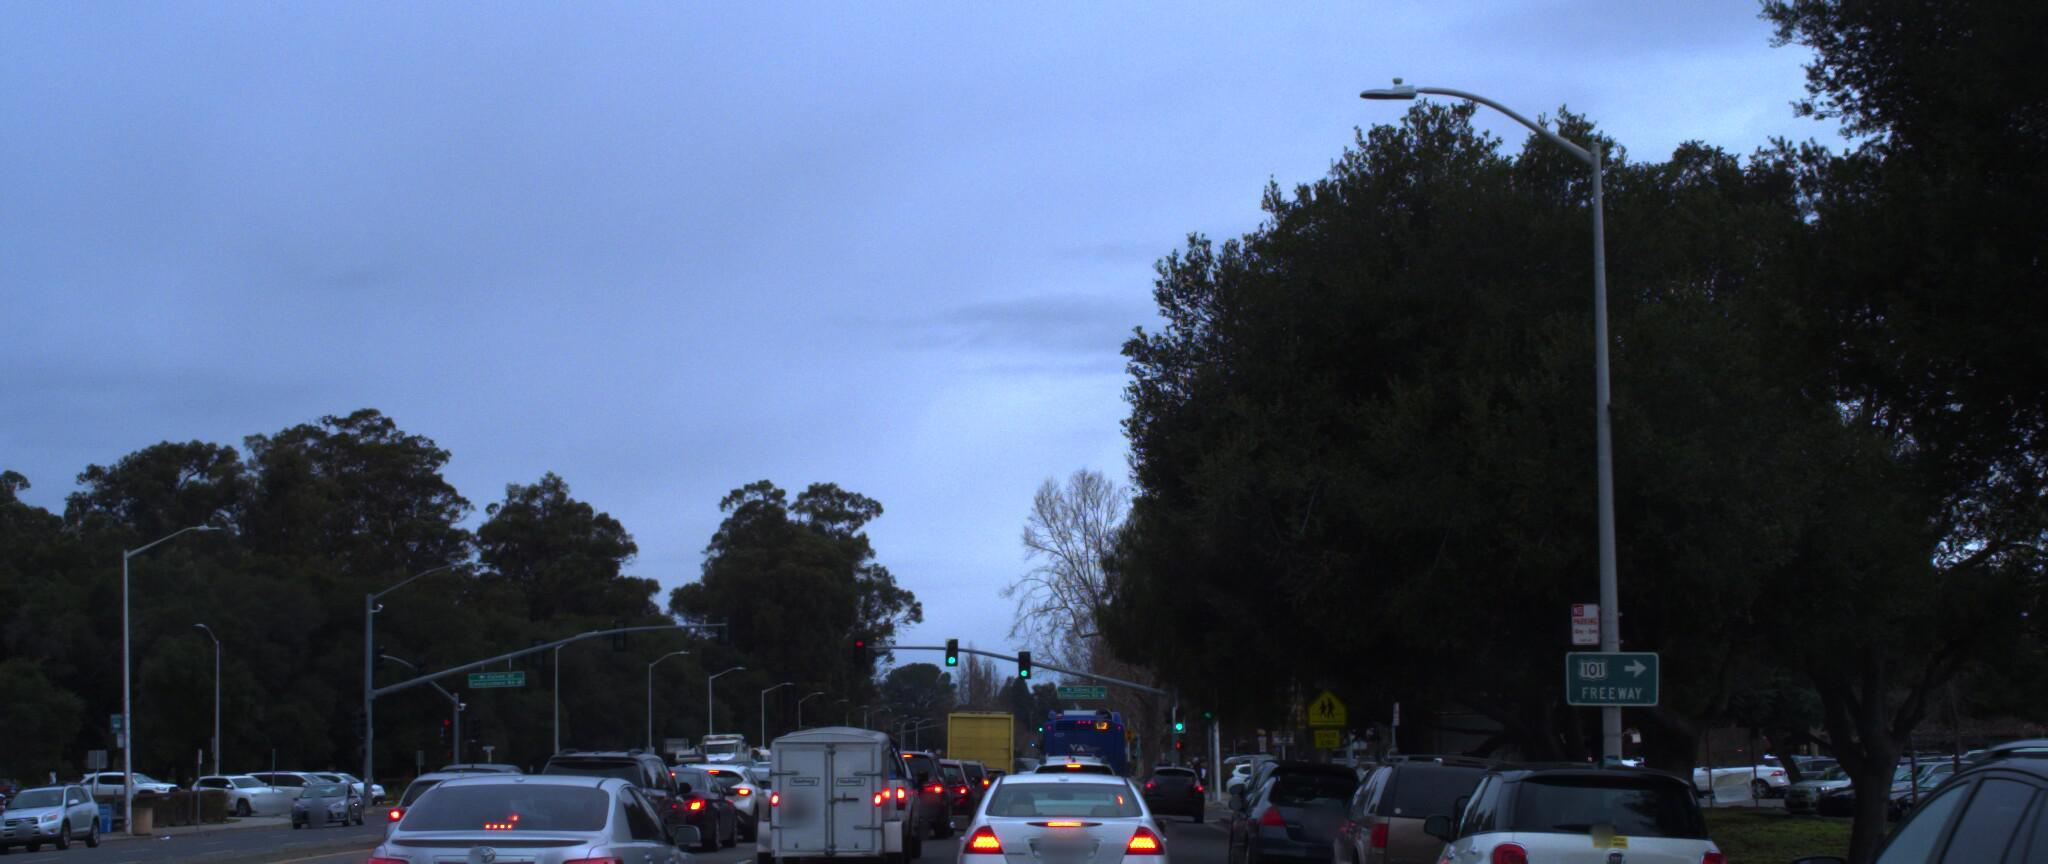car: (1714, 717, 2048, 864), (1388, 743, 1741, 864), (330, 753, 714, 864), (1307, 736, 1566, 864), (754, 713, 933, 864), (951, 757, 1176, 864), (377, 752, 579, 864), (524, 737, 691, 864), (1213, 760, 1388, 864), (609, 737, 747, 848), (858, 727, 964, 827), (654, 748, 775, 829), (0, 775, 103, 852), (923, 744, 1019, 824)
